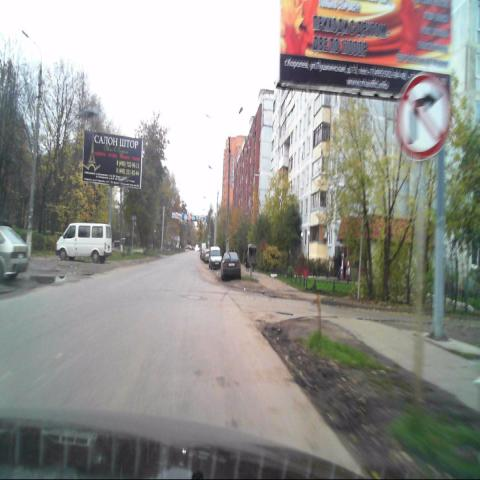3_18: (400, 74, 451, 161)
